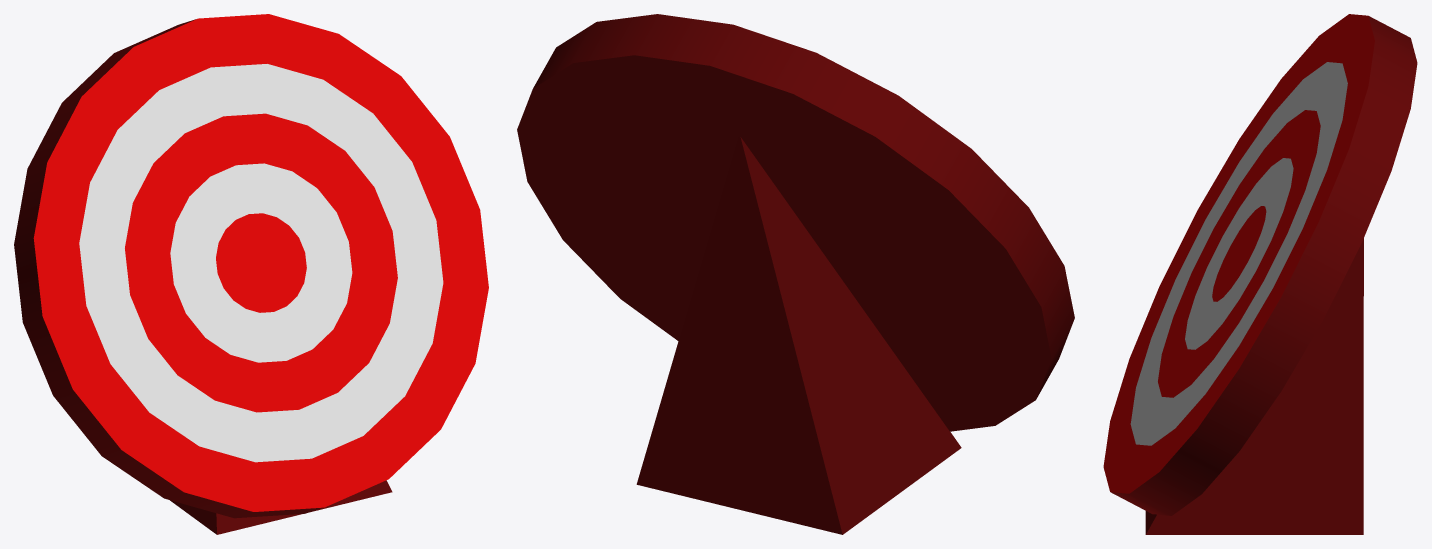
The model's file is scheibe.fbx.
The picture shows the model from 3 angles, left to right: view 1: azimuth 30°, elevation 25°; view 2: azimuth 150°, elevation 25°; view 3: azimuth 270°, elevation 25°; orthographic projection. The views are drawn at different scales.
Parts seen in each view (by area): view 1: pCylinder2; view 2: pCylinder2; view 3: pCylinder2.
Boxes of the visible parts, x1=… form: pCylinder2: x1=14, y1=14, x2=488, y2=534; pCylinder2: x1=517, y1=14, x2=1074, y2=534; pCylinder2: x1=1103, y1=14, x2=1417, y2=534.
Bounding box in the file's own units: 1.25 × 1.14 × 0.7207.
